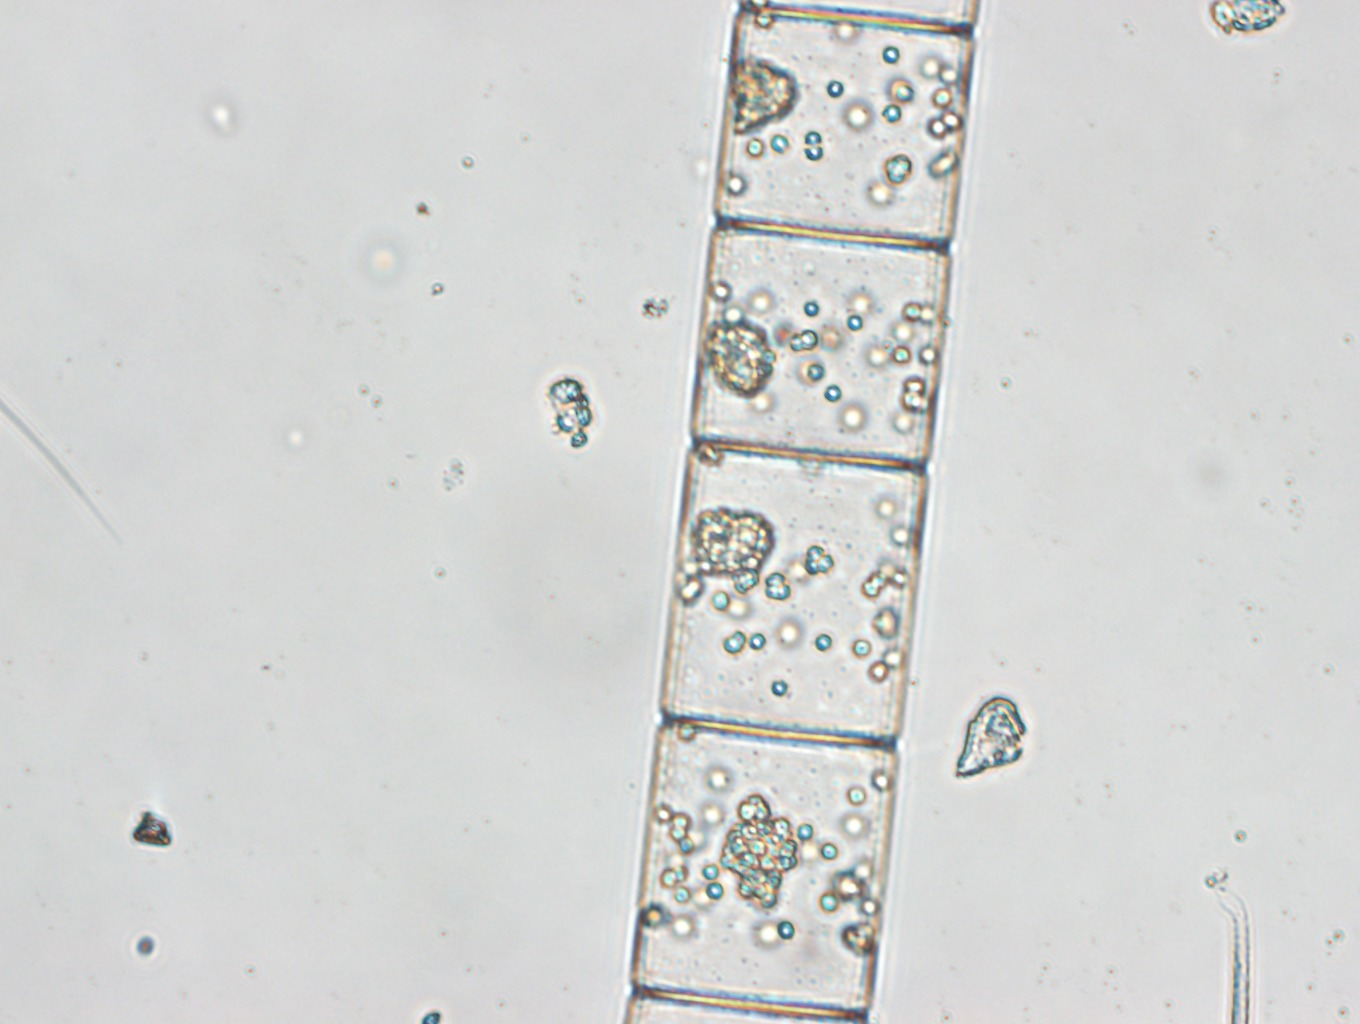guinardia flaccida: (622, 1, 982, 1024)
